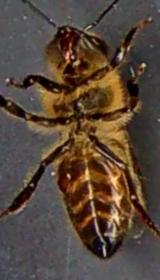varroa_mite: (44, 159, 88, 195)
